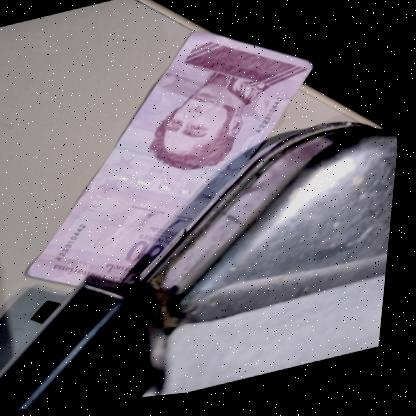one_hundred-front-vef: (0, 6, 344, 311)
